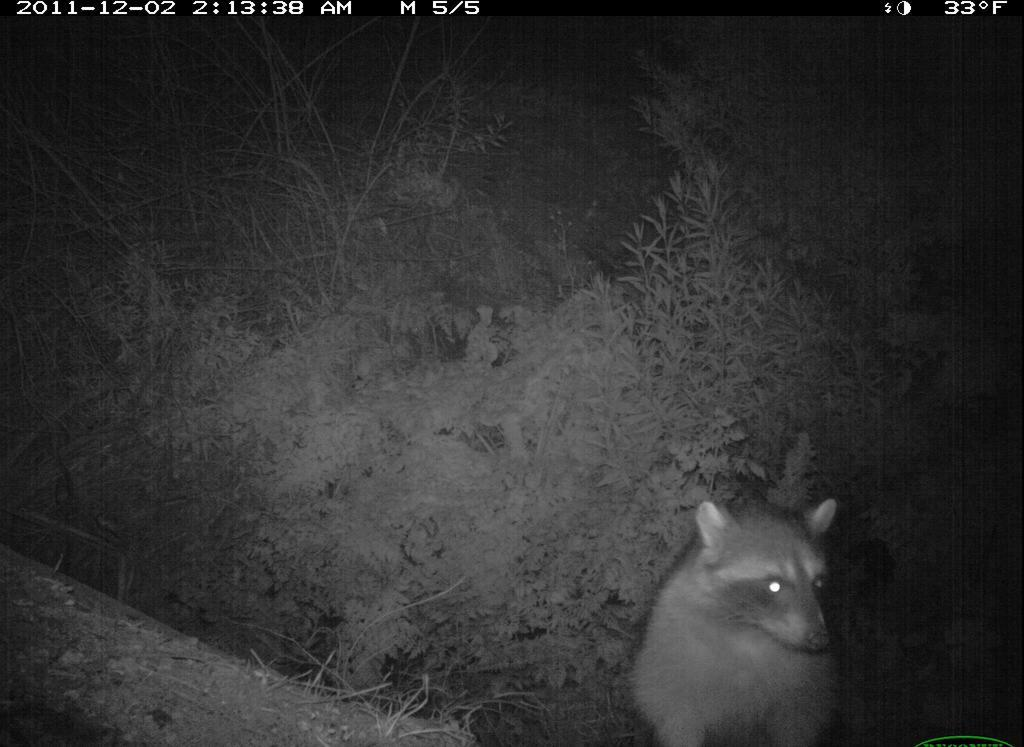raccoon: (615, 483, 859, 745)
